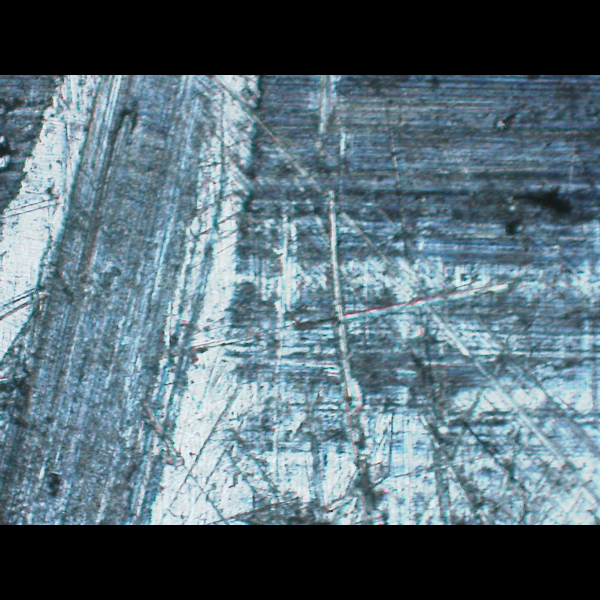d: (0, 198, 592, 524), (0, 77, 270, 524)
